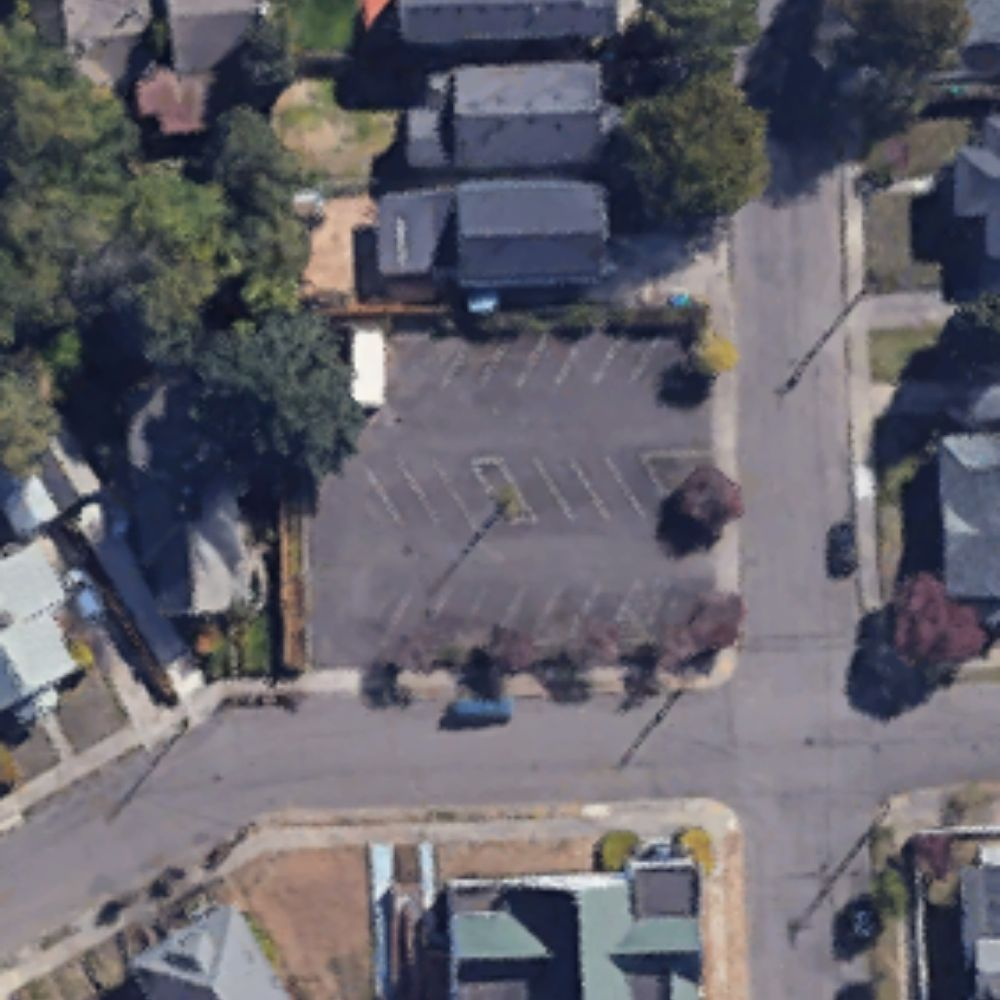parking: (310, 330, 715, 660)
